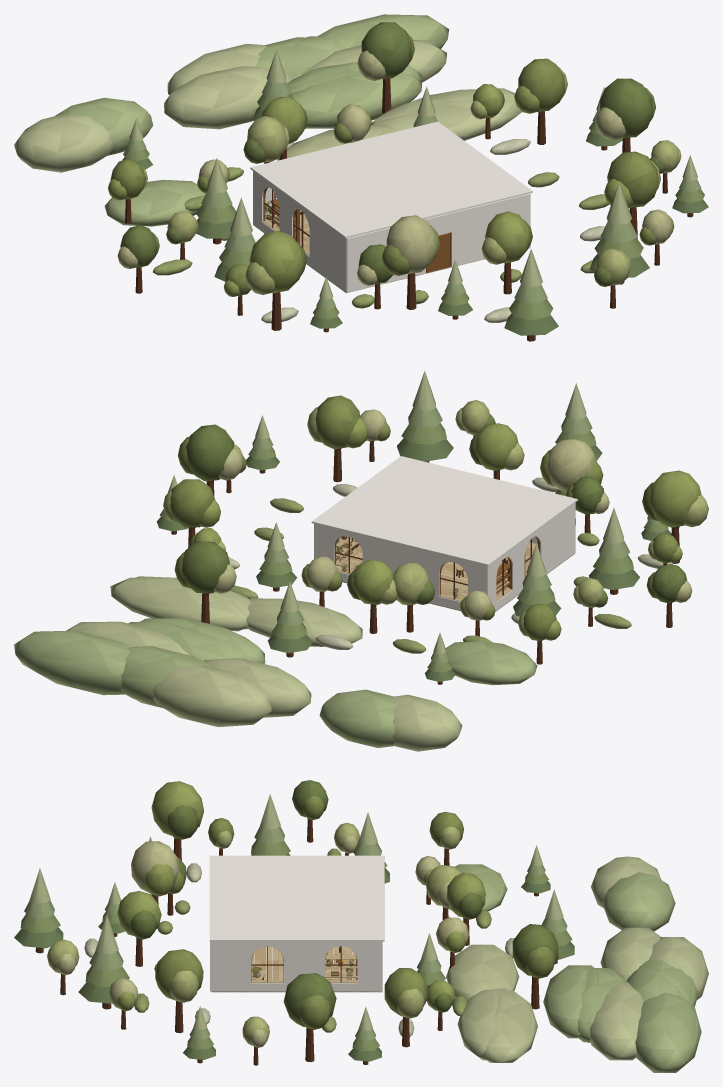
Rendered from forest-atelier-original.glb.
The picture shows the model from 3 angles, top to bottom: view 1: azimuth 30°, elevation 25°; view 2: azimuth 150°, elevation 25°; view 3: azimuth 270°, elevation 25°; orthographic projection. The views are drawn at different scales.
Visible parts, largest first — view 1: atelier-original-batch-06, atelier-original-batch-08, atelier-original-batch-05, atelier-original-batch-03, atelier-original-batch-01, atelier-original-batch-02, atelier-original-batch-04, atelier-original-batch-09; view 2: atelier-original-batch-06, atelier-original-batch-08, atelier-original-batch-02, atelier-original-batch-03, atelier-original-batch-01, atelier-original-batch-05, atelier-original-batch-04, atelier-original-batch-07, atelier-original-batch-10, atelier-original-batch-09; view 3: atelier-original-batch-06, atelier-original-batch-08, atelier-original-batch-05, atelier-original-batch-01, atelier-original-batch-03, atelier-original-batch-04, atelier-original-batch-02, atelier-original-batch-07, atelier-original-batch-10.
Boxes of the visible parts, left/top/right/bottom form: atelier-original-batch-06: left=14, top=14, right=681, bottom=323; atelier-original-batch-08: left=250, top=121, right=532, bottom=292; atelier-original-batch-05: left=129, top=50, right=697, bottom=299; atelier-original-batch-03: left=123, top=93, right=704, bottom=319; atelier-original-batch-01: left=125, top=78, right=693, bottom=341; atelier-original-batch-02: left=122, top=106, right=708, bottom=335; atelier-original-batch-04: left=126, top=81, right=701, bottom=309; atelier-original-batch-09: left=263, top=187, right=450, bottom=272; atelier-original-batch-06: left=14, top=395, right=708, bottom=751; atelier-original-batch-08: left=311, top=456, right=577, bottom=610; atelier-original-batch-02: left=156, top=438, right=671, bottom=681; atelier-original-batch-03: left=159, top=423, right=668, bottom=672; atelier-original-batch-01: left=171, top=435, right=679, bottom=684; atelier-original-batch-05: left=168, top=370, right=623, bottom=653; atelier-original-batch-04: left=252, top=407, right=659, bottom=663; atelier-original-batch-07: left=336, top=542, right=575, bottom=611; atelier-original-batch-10: left=336, top=536, right=526, bottom=601; atelier-original-batch-09: left=334, top=536, right=540, bottom=595; atelier-original-batch-06: left=47, top=780, right=708, bottom=1072; atelier-original-batch-08: left=209, top=855, right=384, bottom=991; atelier-original-batch-05: left=29, top=794, right=563, bottom=1030; atelier-original-batch-01: left=35, top=819, right=557, bottom=1065; atelier-original-batch-03: left=20, top=840, right=572, bottom=1051; atelier-original-batch-04: left=24, top=826, right=567, bottom=1041; atelier-original-batch-02: left=14, top=853, right=574, bottom=1061; atelier-original-batch-07: left=212, top=946, right=382, bottom=992; atelier-original-batch-10: left=251, top=952, right=357, bottom=982.
Size of what is drawn, in the model's own units: 46.77 by 10.63 by 56.81.
Materials: 42 (17 with a texture image).
